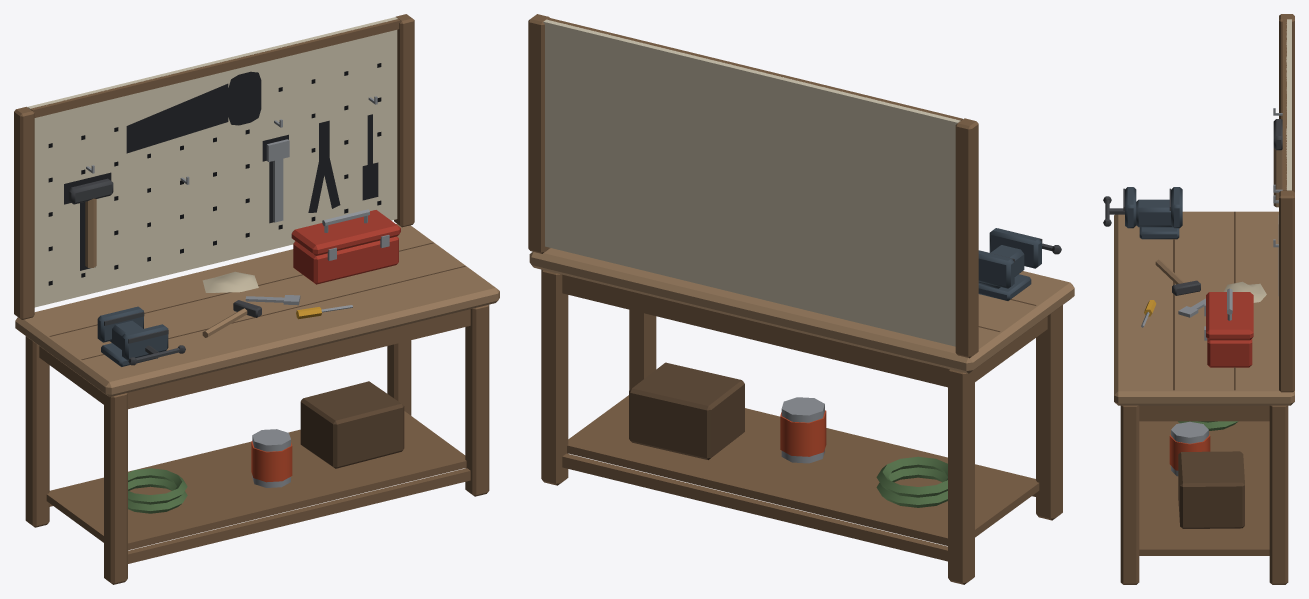
File: Basement_Workbench.fbx
3 renders of one model, left to right at view 1: azimuth 30°, elevation 25°; view 2: azimuth 150°, elevation 25°; view 3: azimuth 270°, elevation 25°, orthographic. The views are drawn at different scales.
Parts seen in each view (by area): view 1: Pegboard, Frame, Worktop, PegFrame, Silhouettes, Crate, Toolbox, Vise, Hose, Iron, Steel, CanLabel (+6 smaller); view 2: Pegboard, Frame, Worktop, PegFrame, Crate, Vise, Hose, CanLabel, CanMetal; view 3: Worktop, Frame, Crate, PegFrame, Toolbox, Vise, Iron, Pegboard, CanMetal, CanLabel, SteelSmall, HangHandle (+3 smaller).
Boxes of the visible parts, x1,y1,x2,y2 form: Pegboard: [27, 17, 397, 307]; Frame: [25, 304, 489, 584]; Worktop: [15, 224, 499, 397]; PegFrame: [14, 14, 414, 319]; Silhouettes: [64, 71, 378, 270]; Crate: [300, 381, 404, 468]; Toolbox: [291, 210, 400, 284]; Vise: [97, 306, 168, 366]; Hose: [128, 468, 187, 513]; Iron: [68, 178, 261, 365]; Steel: [86, 96, 377, 222]; CanLabel: [251, 441, 292, 482]; Pegboard: [543, 19, 960, 346]; Frame: [541, 269, 1062, 584]; Worktop: [529, 248, 1074, 373]; PegFrame: [528, 14, 978, 358]; Crate: [629, 362, 744, 459]; Vise: [978, 228, 1041, 300]; Hose: [876, 456, 947, 507]; CanLabel: [780, 410, 826, 456]; CanMetal: [781, 397, 824, 463]; Worktop: [1114, 211, 1294, 405]; Frame: [1120, 405, 1288, 584]; Crate: [1178, 451, 1244, 528]; PegFrame: [1279, 14, 1294, 392]; Toolbox: [1206, 292, 1253, 367]; Vise: [1125, 187, 1182, 239]; Iron: [1103, 119, 1282, 295]; Pegboard: [1286, 19, 1291, 190]; CanMetal: [1171, 421, 1208, 476]; CanLabel: [1169, 435, 1210, 470]; SteelSmall: [1141, 288, 1232, 340]; HangHandle: [1273, 148, 1282, 207].
Size of the model in its own units: 600 by 600 by 265.
